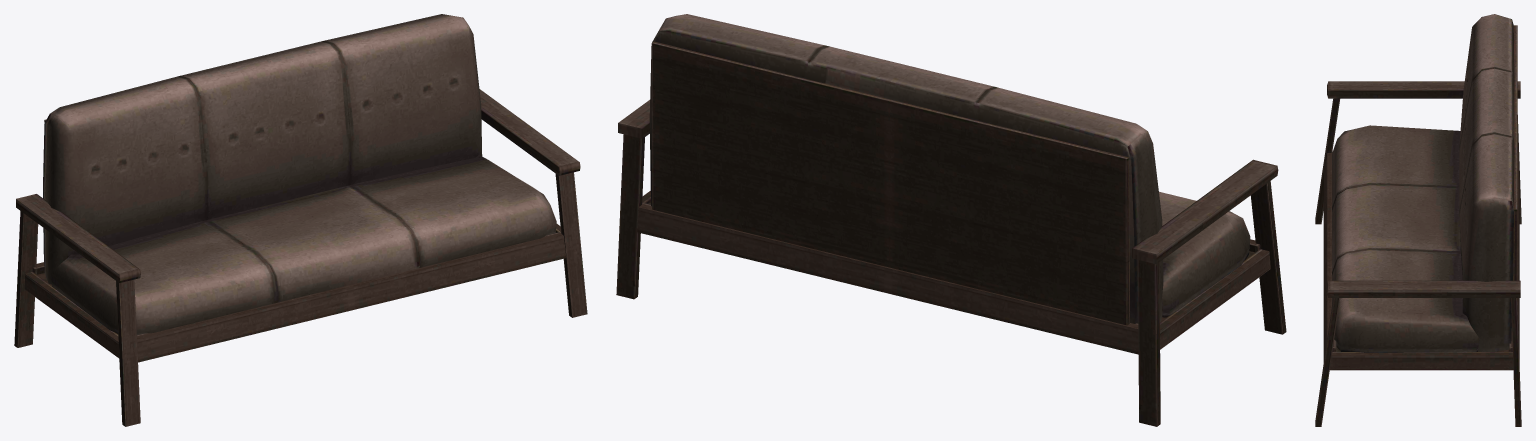
The model's file is sofa.fbx.
3 renders of one model, left to right at view 1: azimuth 30°, elevation 25°; view 2: azimuth 150°, elevation 25°; view 3: azimuth 270°, elevation 25°, orthographic. The views are drawn at different scales.
Visible parts, largest first — view 1: IS4_MDL_SalaControl_Sofa; view 2: IS4_MDL_SalaControl_Sofa; view 3: IS4_MDL_SalaControl_Sofa.
Boxes of the visible parts, x1=… form: IS4_MDL_SalaControl_Sofa: x1=14, y1=14, x2=587, y2=426; IS4_MDL_SalaControl_Sofa: x1=616, y1=14, x2=1286, y2=426; IS4_MDL_SalaControl_Sofa: x1=1315, y1=14, x2=1521, y2=426.
Size of the model in its own units: 93.59 by 46.19 by 38.9.
